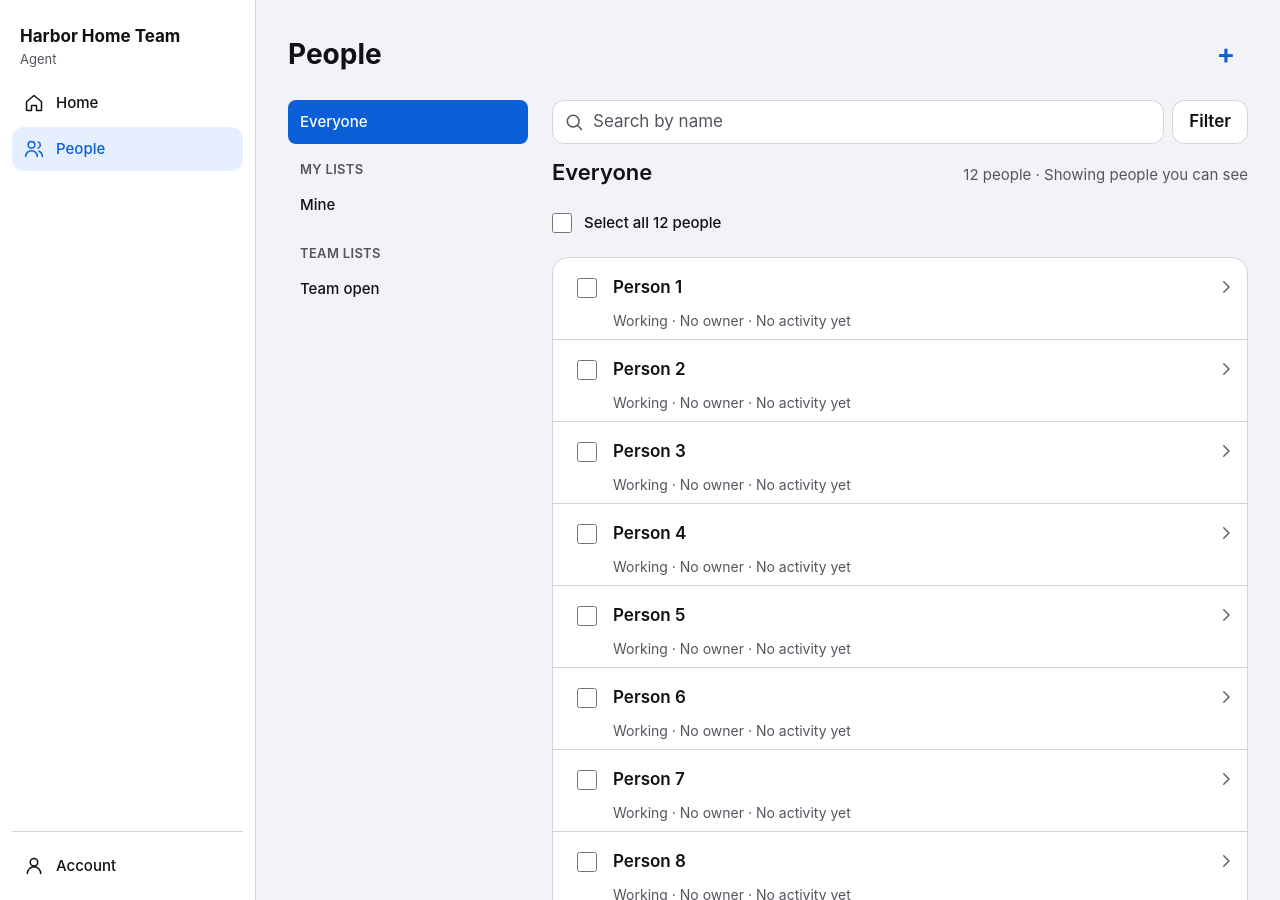
Scenario: the filter builder (lane people-filters) › review: focus moves into each new step of the builder (never to <body>)
Click the button "Filter" at (1210, 122), box [1172,100,1248,144]
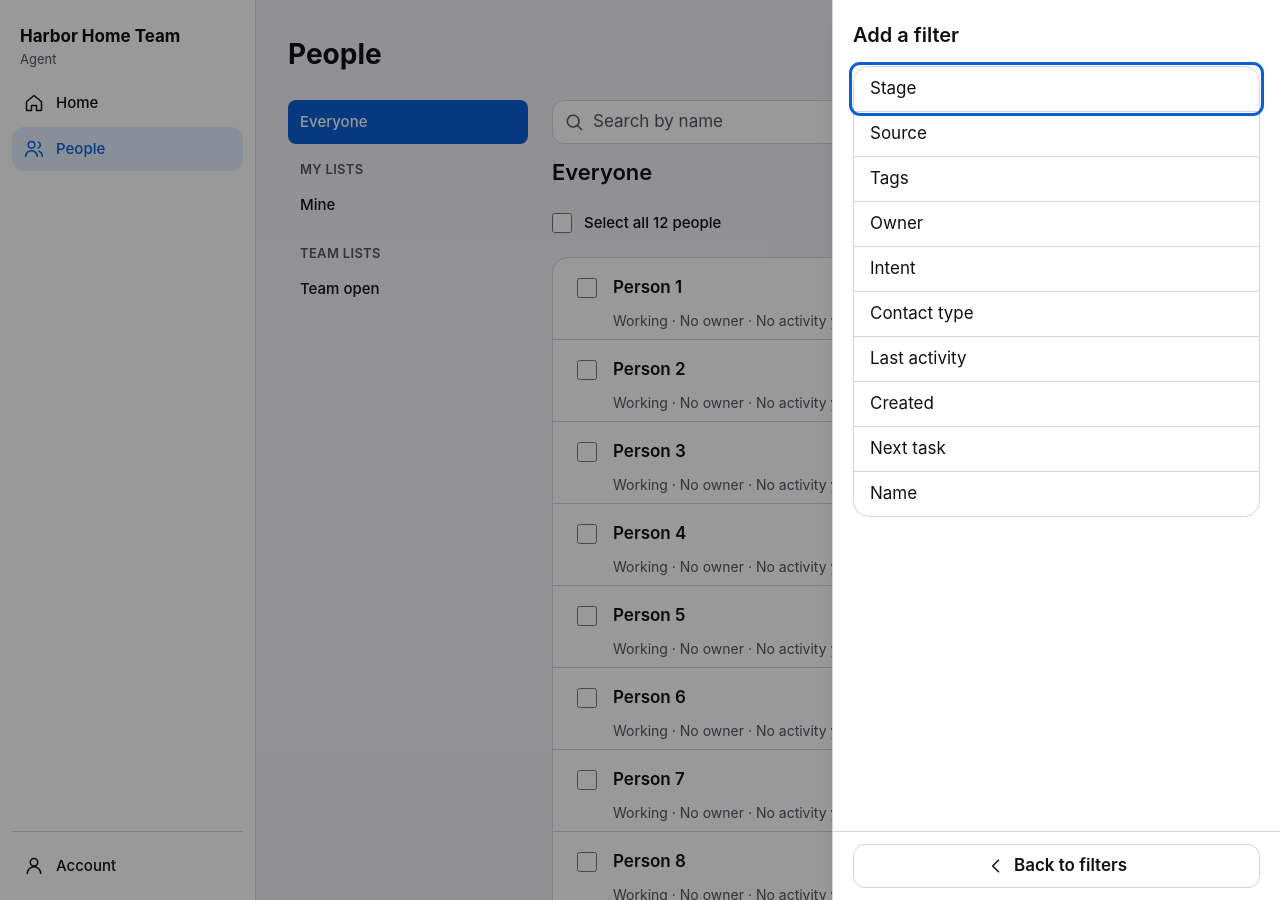
Click the button "Source" at (898, 133), box [854,112,1259,156]
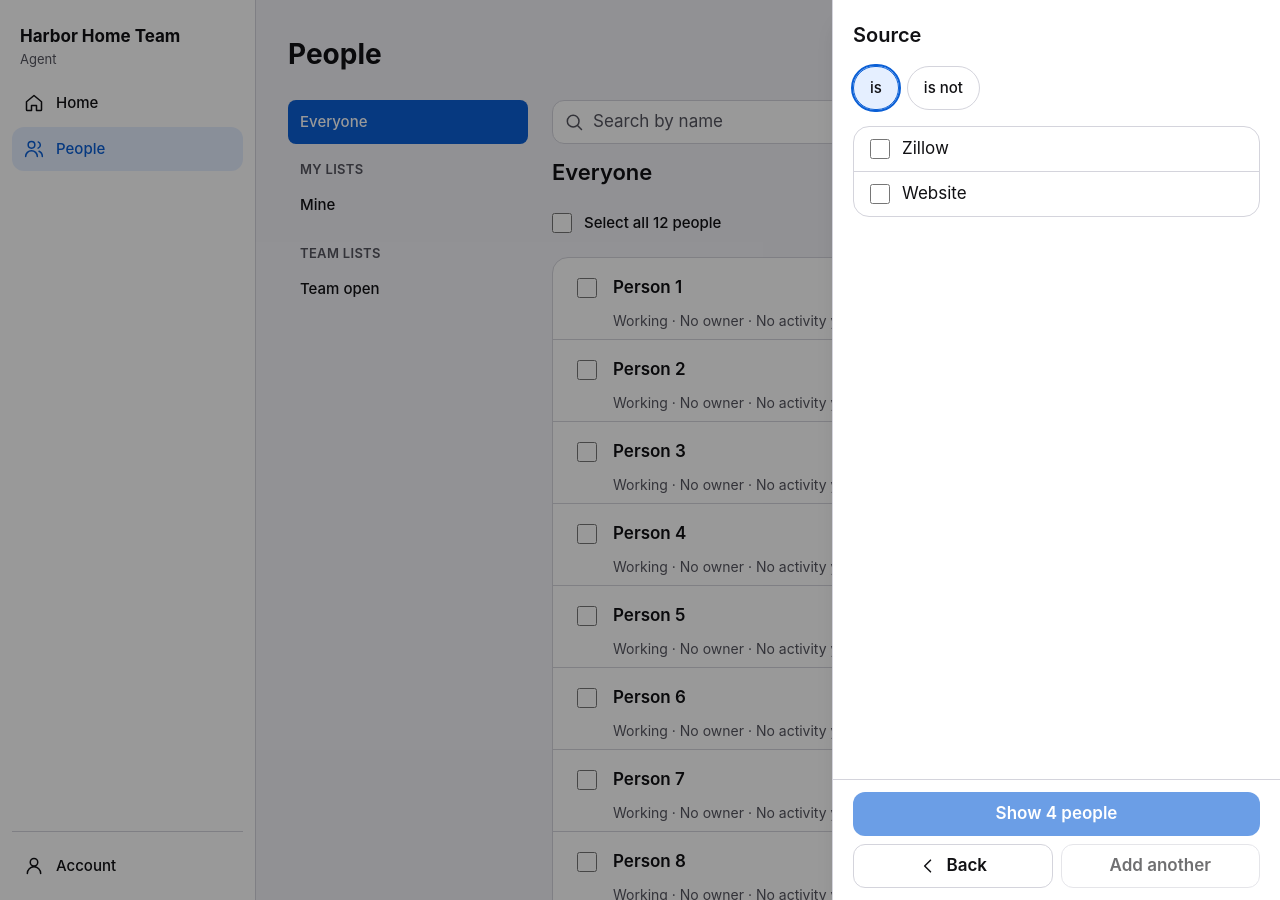
Now the dialog "Source" is shown, box [832,0,1279,899]
Click the checkbox labelled "Zillow" at (880, 149), box [870,139,890,159]
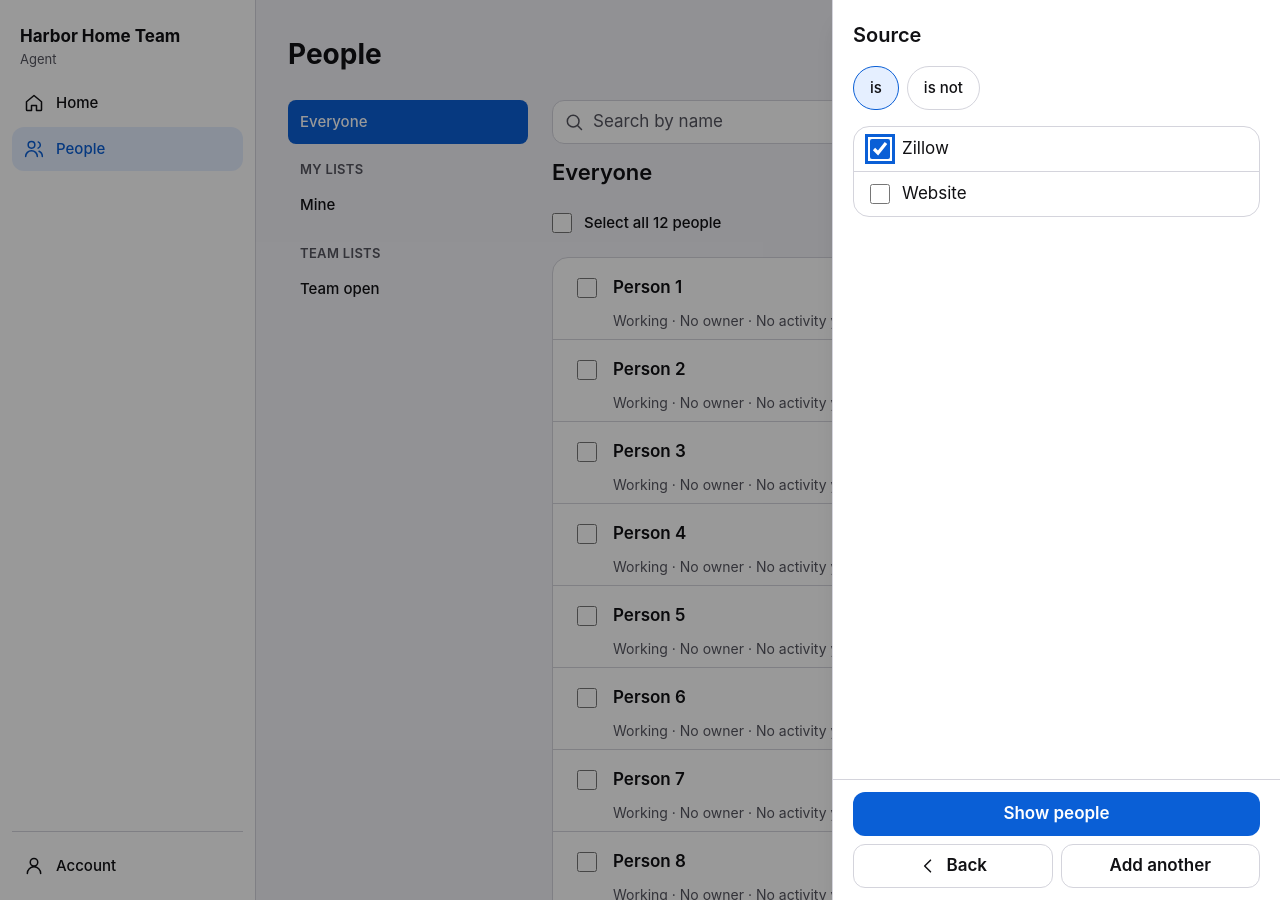
Click the button "Back" at (953, 866), box [853,844,1052,888]
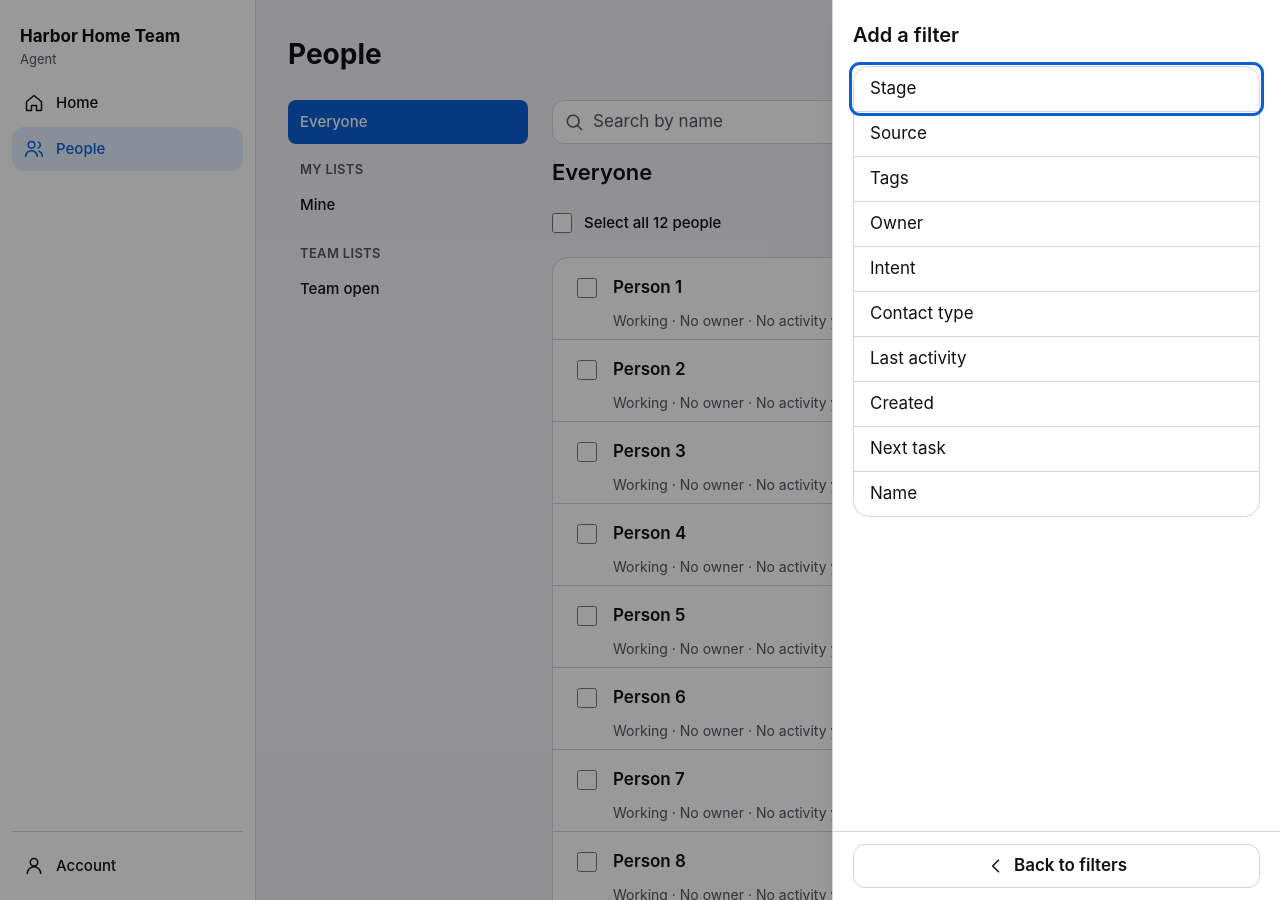
Now the dialog "Add a filter" is shown, box [832,0,1279,899]
